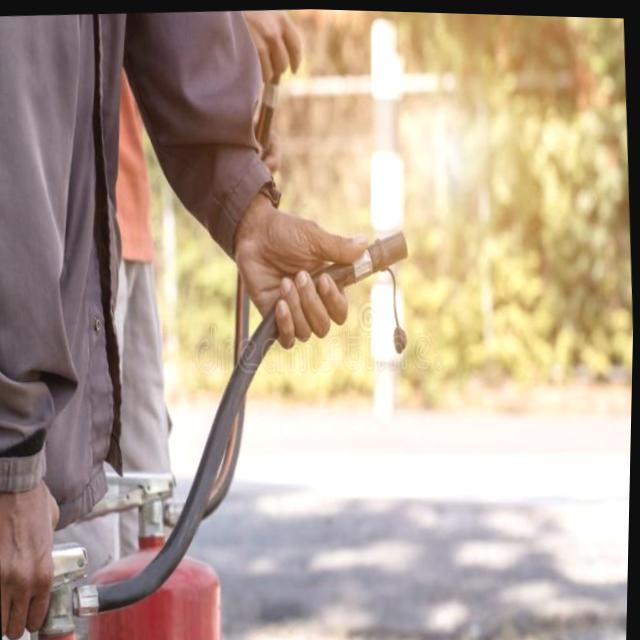FireExtinguisher: (0, 208, 438, 640), (41, 21, 325, 640)
